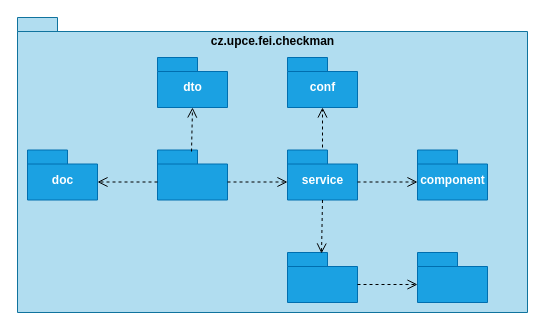
Image size: 545x330. Some labels were removed from this diagram. Each missing label, with the centre of its shape:
controller: the point at 192,174
domain: the point at 452,277
repository: the point at 322,277
